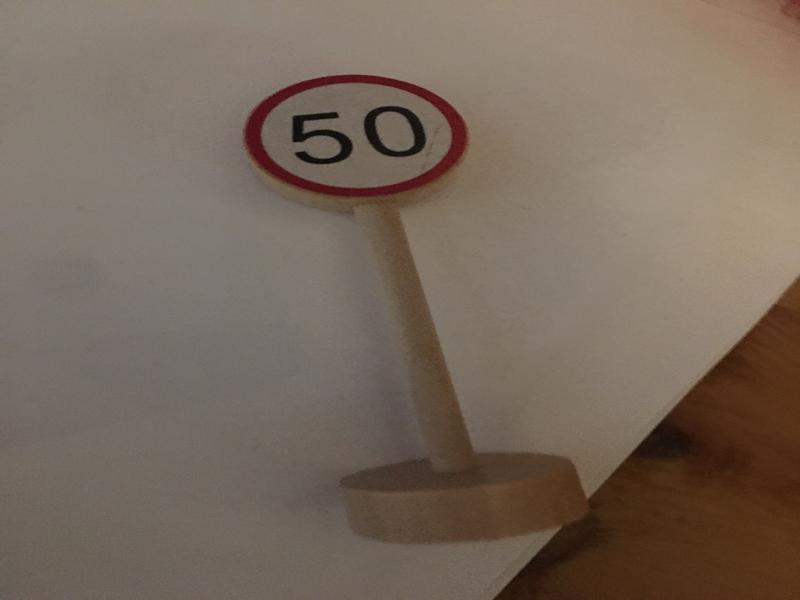Traffic_Sign_50: (244, 75, 470, 197)
